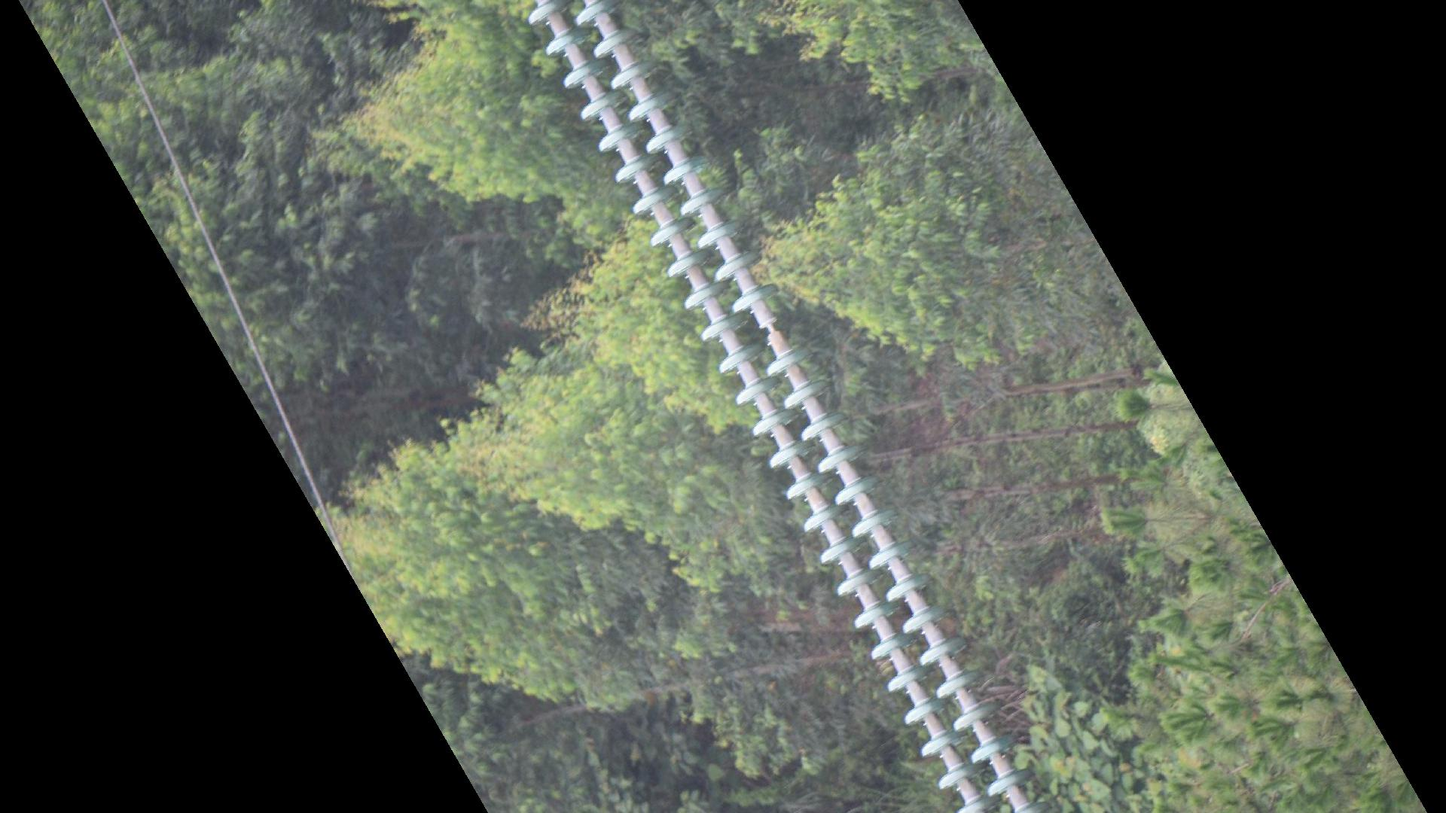insulator: (519, 1, 1057, 813)
insulator_stringdrop: (728, 279, 812, 381)
